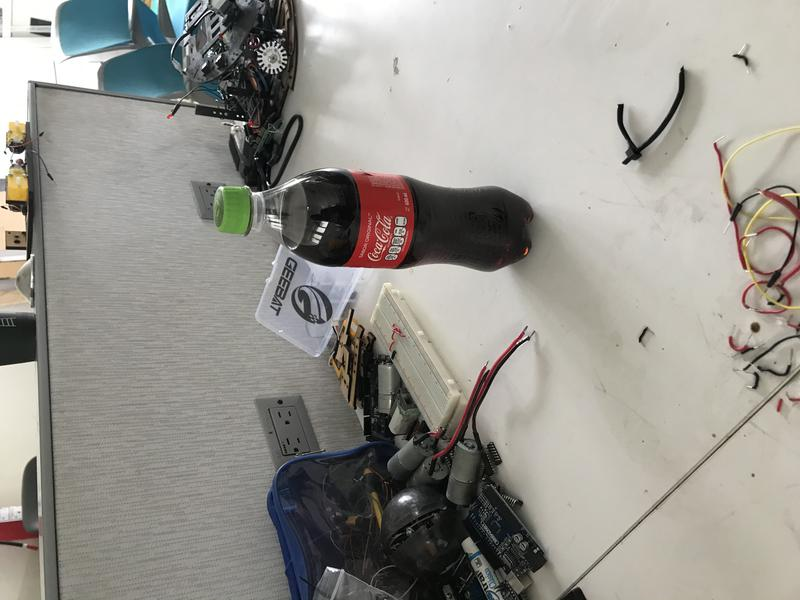coca_cola: (212, 167, 535, 274)
